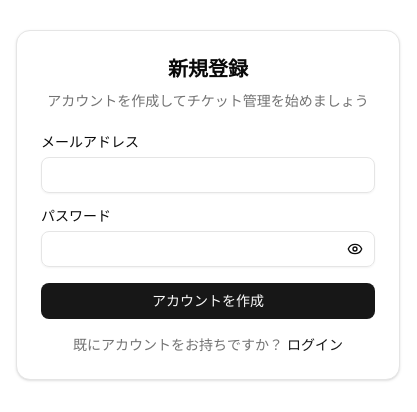
Test case: SignupPage › メールアドレスの形式が不正な場合にエラーを表示する
Expected: the heading "新規登録" is shown, [168, 58, 248, 80]
Type "not-an-email" into the field labelled "メールアドレス" at (208, 175), box [41, 157, 375, 193]
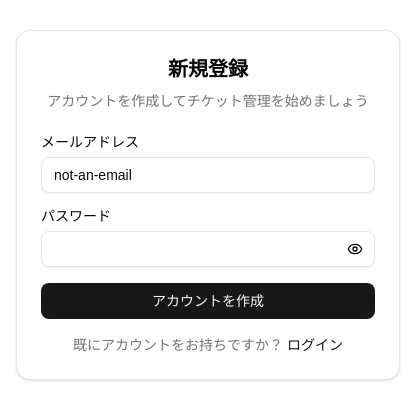
Type "password123" into the password field labelled "パスワード" at (208, 249), box [41, 231, 375, 267]
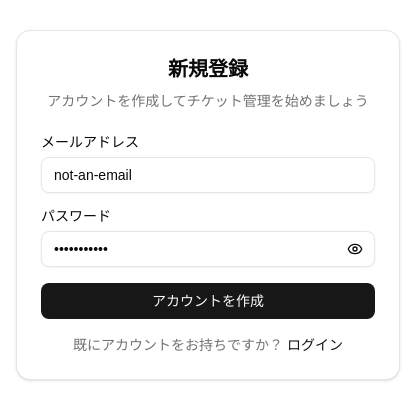
Click the button "アカウントを作成" at (208, 301), box [41, 283, 375, 319]
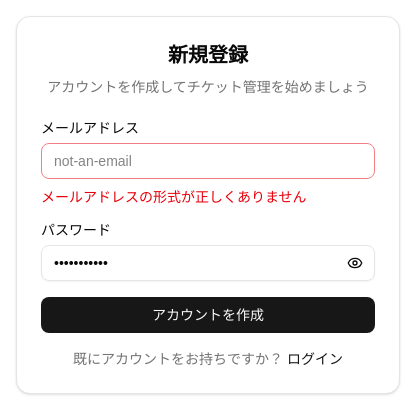
Expected: the text "メールアドレスの形式が正しくありません" is shown, [41, 189, 307, 205]
